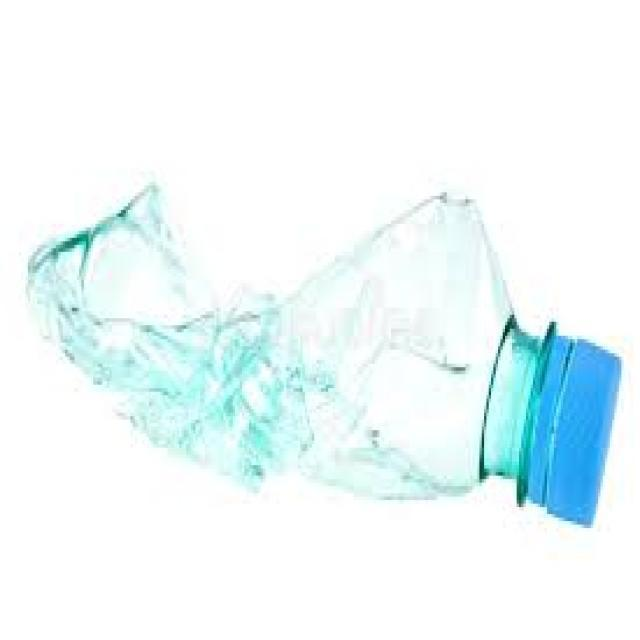Plastic: (22, 178, 623, 528)
